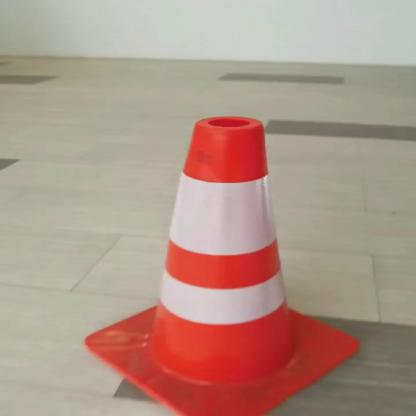cone: (80, 106, 367, 416)
